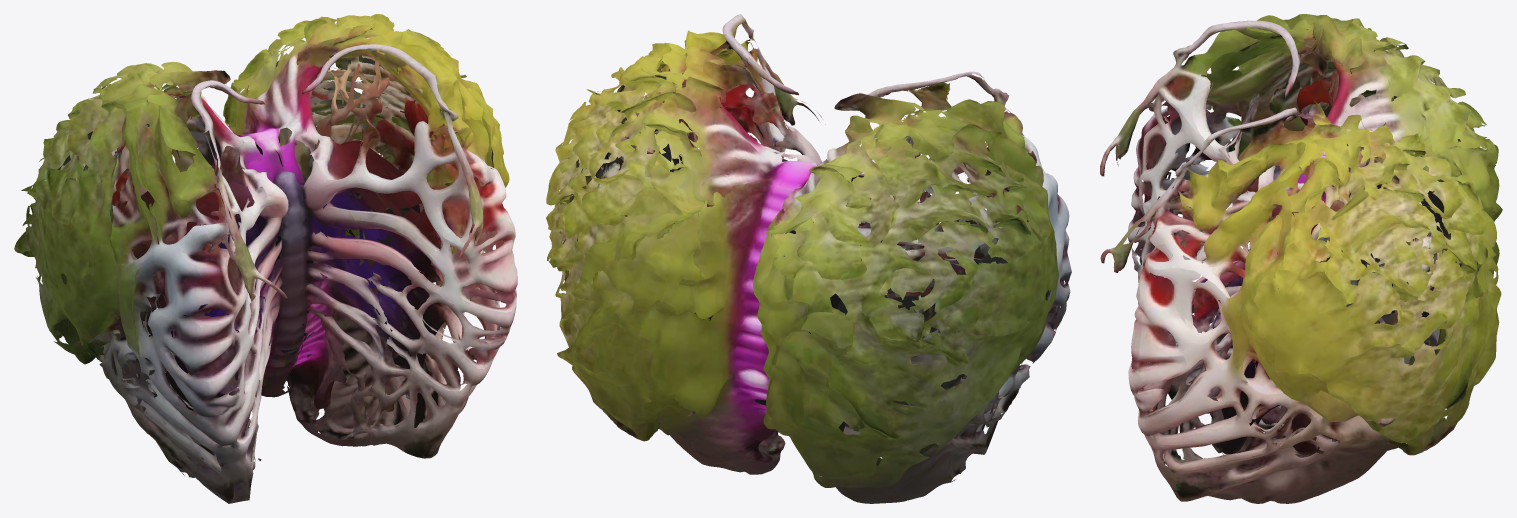
Rendered from prop_arch.glb.
3 renders of one model, left to right at view 1: azimuth 30°, elevation 25°; view 2: azimuth 150°, elevation 25°; view 3: azimuth 270°, elevation 25°, orthographic. The views are drawn at different scales.
Parts seen in each view (by area): view 1: geometry_0.3096; view 2: geometry_0.3096; view 3: geometry_0.3096.
Boxes of the visible parts, x1,y1,x2,y2 form: geometry_0.3096: (14, 14, 517, 503); geometry_0.3096: (546, 14, 1071, 503); geometry_0.3096: (1100, 14, 1502, 503).
Size of the model in its own units: 1 by 0.8682 by 0.7964.
1 material, 1 textured.
